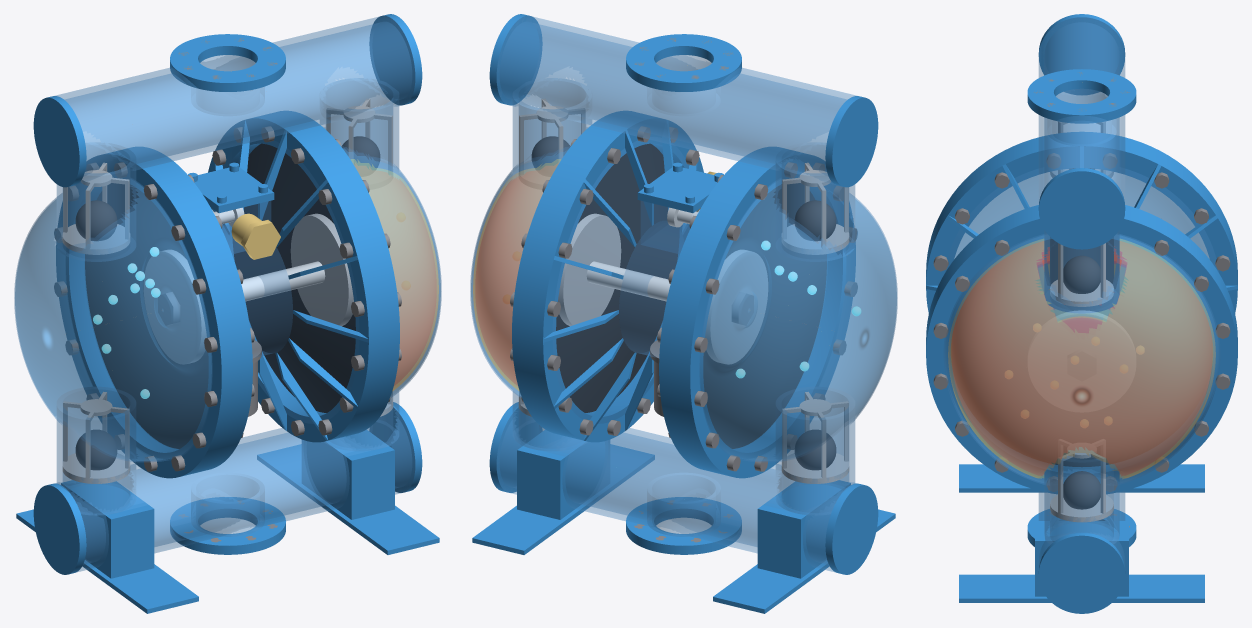
The model's file is pump_diaphragm.glb.
3 views of the same model, side by side, from view 1: azimuth 30°, elevation 25°; view 2: azimuth 150°, elevation 25°; view 3: azimuth 270°, elevation 25° (orthographic). The views are drawn at different scales.
Parts seen in each view (by area): view 1: dome_shell.001, fluid_blue_L, discharge_manifold, clamp_flange_ring.001, mounting_feet, suction_manifold, clamp_flange_ring, check_valve_housings.001, diaphragm_L, air_chamber_cone, diaphragm_R, dome_shell (+25 smaller); view 2: dome_shell.001, fluid_blue_L, discharge_manifold, clamp_flange_ring.001, mounting_feet, suction_manifold, clamp_flange_ring, check_valve_housings.001, diaphragm_L, air_chamber_cone, diaphragm_R, dome_shell (+24 smaller); view 3: dome_shell, fluid_blue_R, fluid_orange_R, fluid_red_R, clamp_flange_ring, clamp_flange_ring.001, check_valve_housings, discharge_manifold_end_caps, mounting_feet, discharge_manifold, suction_manifold_end_caps, air_chamber_cone.001 (+13 smaller).
Part boxes in pixels (x1,y1,x2,y2): dome_shell.001: [14, 181, 212, 461]; fluid_blue_L: [15, 183, 211, 460]; discharge_manifold: [55, 16, 414, 183]; clamp_flange_ring.001: [56, 147, 252, 478]; mounting_feet: [16, 429, 439, 613]; suction_manifold: [55, 408, 414, 571]; clamp_flange_ring: [208, 111, 399, 442]; check_valve_housings.001: [57, 142, 135, 515]; diaphragm_L: [85, 183, 208, 448]; air_chamber_cone: [223, 139, 358, 423]; diaphragm_R: [232, 143, 355, 412]; dome_shell: [324, 127, 441, 397]; dome_shell.001: [699, 181, 897, 461]; fluid_blue_L: [700, 183, 896, 460]; discharge_manifold: [497, 16, 856, 183]; clamp_flange_ring.001: [659, 147, 855, 478]; mounting_feet: [472, 429, 895, 613]; suction_manifold: [497, 411, 856, 571]; clamp_flange_ring: [512, 111, 703, 442]; check_valve_housings.001: [776, 142, 854, 515]; diaphragm_L: [703, 183, 826, 448]; air_chamber_cone: [553, 139, 688, 423]; diaphragm_R: [556, 143, 679, 412]; dome_shell: [470, 127, 587, 397]; dome_shell: [943, 234, 1220, 485]; fluid_blue_R: [945, 236, 1218, 482]; fluid_orange_R: [948, 239, 1215, 478]; fluid_red_R: [952, 241, 1211, 475]; clamp_flange_ring: [926, 205, 1237, 493]; clamp_flange_ring.001: [926, 132, 1237, 313]; check_valve_housings: [1044, 230, 1119, 544]; discharge_manifold_end_caps: [1038, 14, 1125, 249]; mounting_feet: [959, 464, 1204, 602]; discharge_manifold: [1039, 17, 1124, 200]; suction_manifold_end_caps: [1038, 532, 1125, 613]; air_chamber_cone.001: [945, 169, 1218, 271].
Bounding box in the file's own units: 0.418 × 0.5431 × 0.332.
